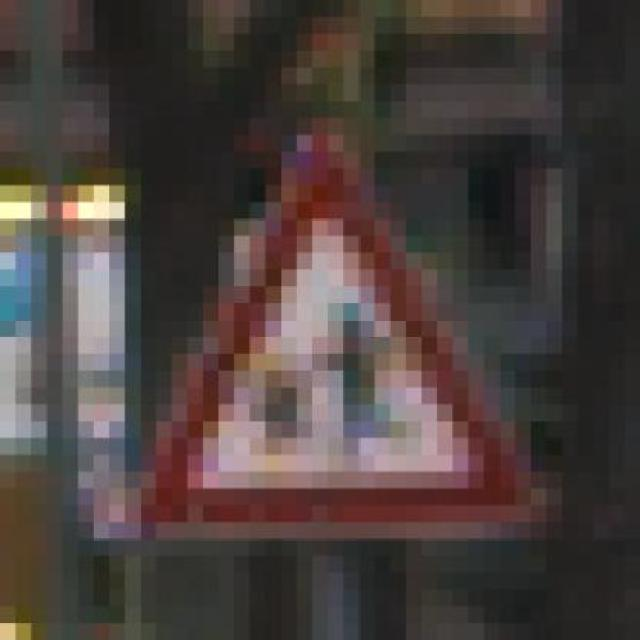Beware of children: (78, 101, 547, 539)
